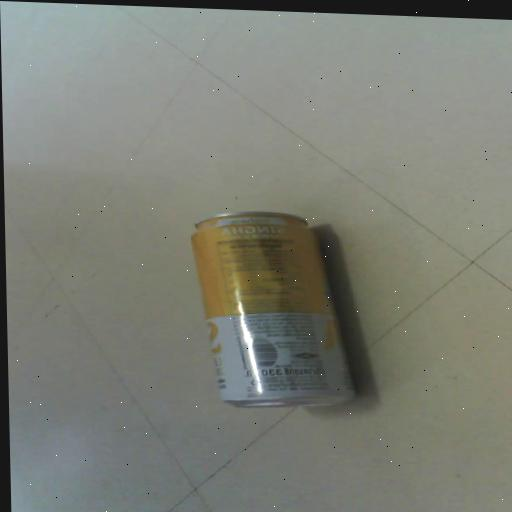canned: (178, 196, 375, 422)
